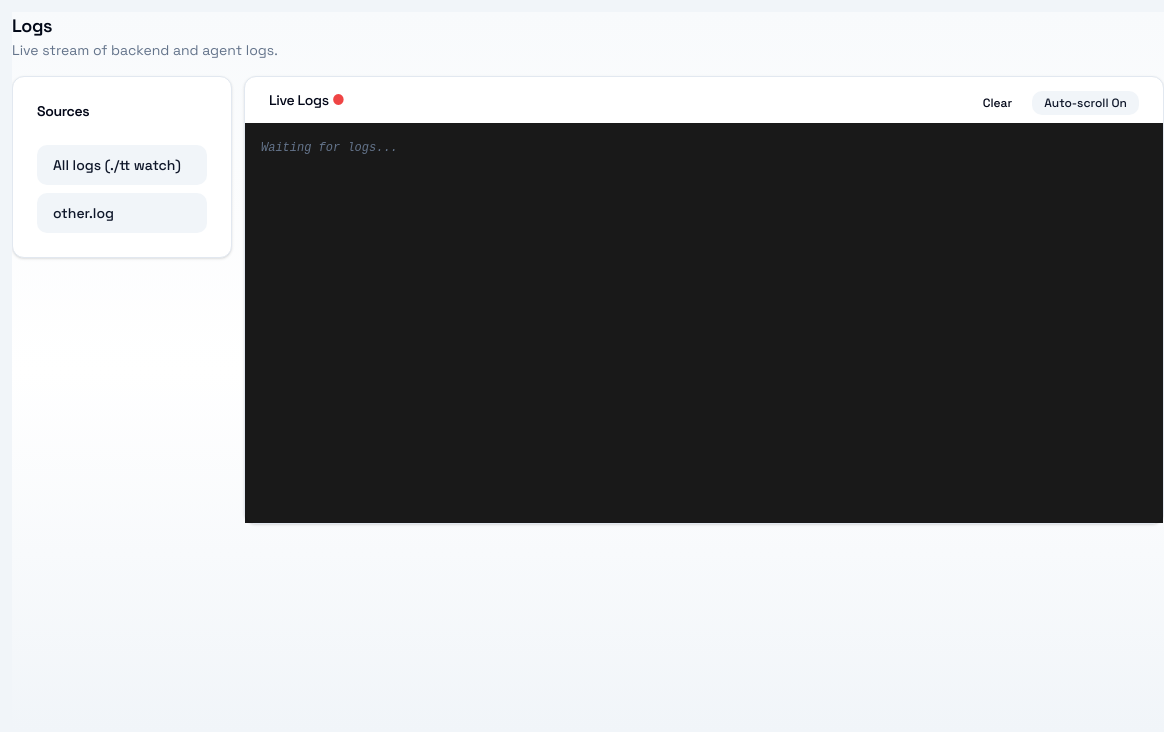
Test: LogsPage › shows empty state when no source selected
The image size is (1164, 732).
expect the text "other.log" is shown: met, box [53,203,114,223]
Click the button "other.log".
click(122, 213)  # box [37,193,207,233]
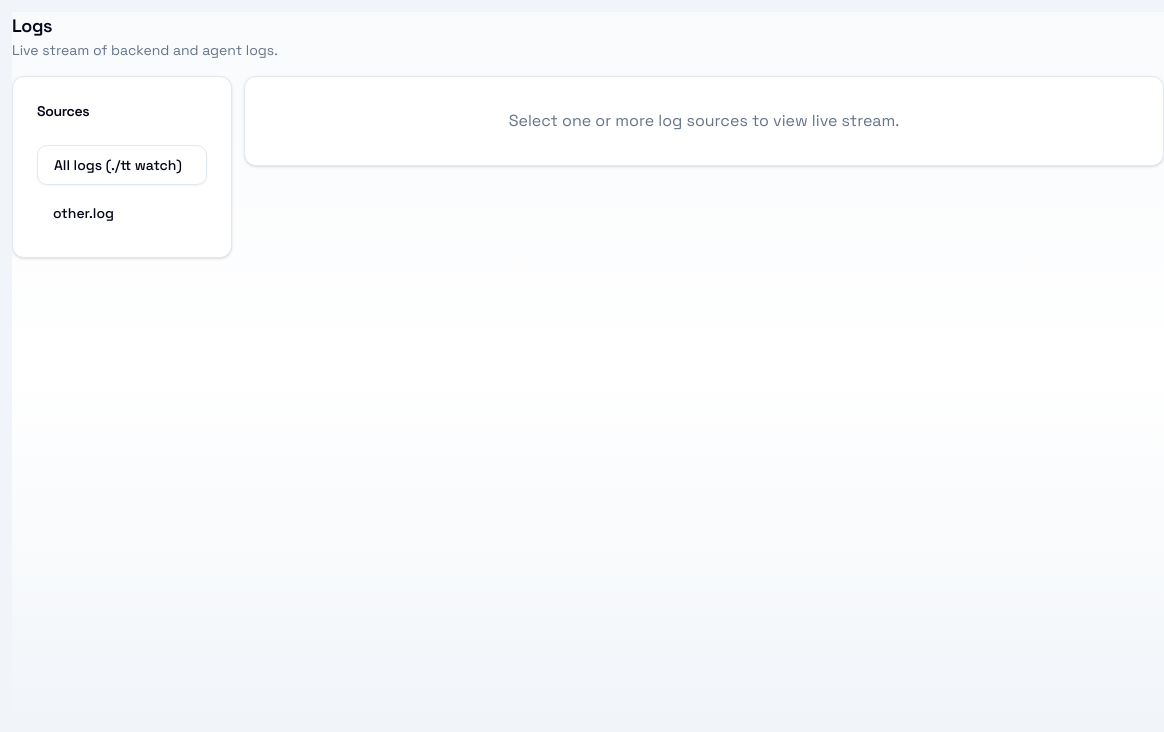
expect the text "Select one or more log sources to view live stream." is shown: met, box [509,110,899,131]
